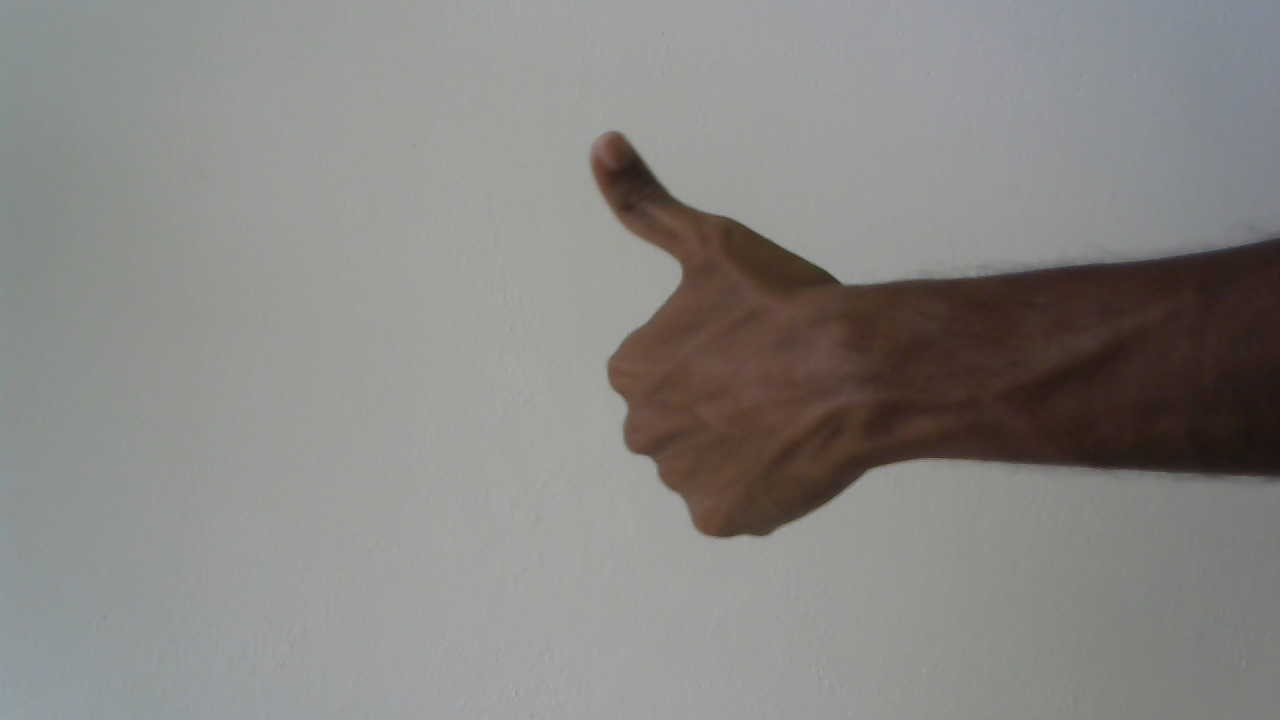thumbsup: (566, 116, 915, 550)
